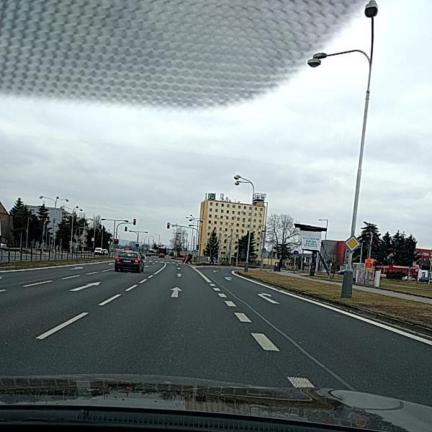Road: (0, 259, 431, 405)
